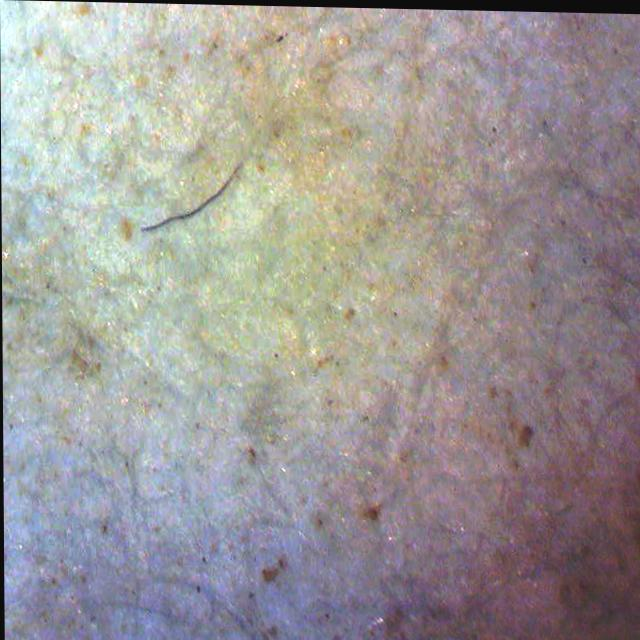microplastic: (140, 161, 245, 245)
